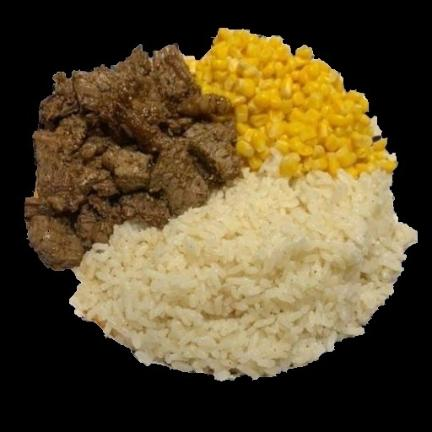corn: (187, 30, 397, 175)
meat: (26, 49, 240, 265)
rice: (78, 177, 407, 375)
